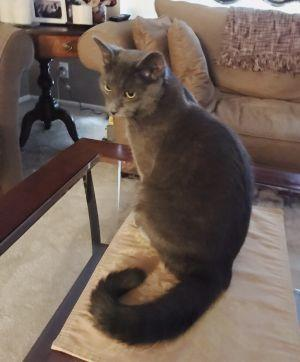rblue: (92, 31, 172, 124)
